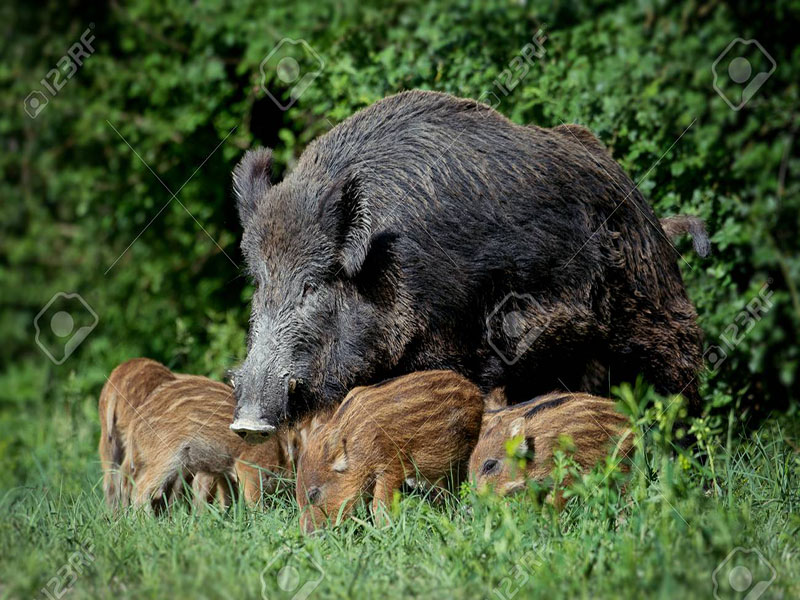cinghiale: (225, 92, 720, 435), (292, 373, 476, 529), (128, 379, 283, 525), (461, 393, 644, 513)
